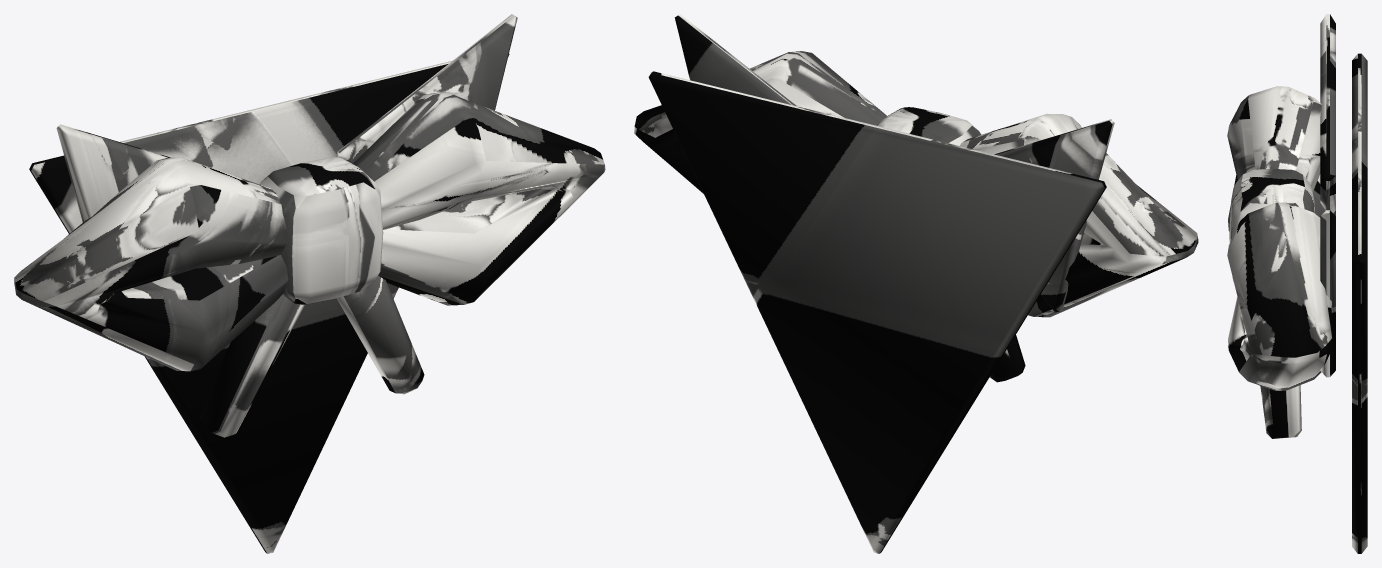
Rendered from Mascarada_Chaleco_Armadura.fbx.
3 renders of one model, left to right at view 1: azimuth 30°, elevation 25°; view 2: azimuth 150°, elevation 25°; view 3: azimuth 270°, elevation 25°, orthographic. The views are drawn at different scales.
Parts seen in each view (by area): view 1: Mascarada_Chaleco_Armadura; view 2: Mascarada_Chaleco_Armadura; view 3: Mascarada_Chaleco_Armadura.
Boxes of the visible parts, x1,y1,x2,y2 form: Mascarada_Chaleco_Armadura: (14,14,605,553); Mascarada_Chaleco_Armadura: (634,14,1198,553); Mascarada_Chaleco_Armadura: (1227,14,1367,553).
Bounding box in the file's own units: 0.5366 × 0.4392 × 0.1267.
